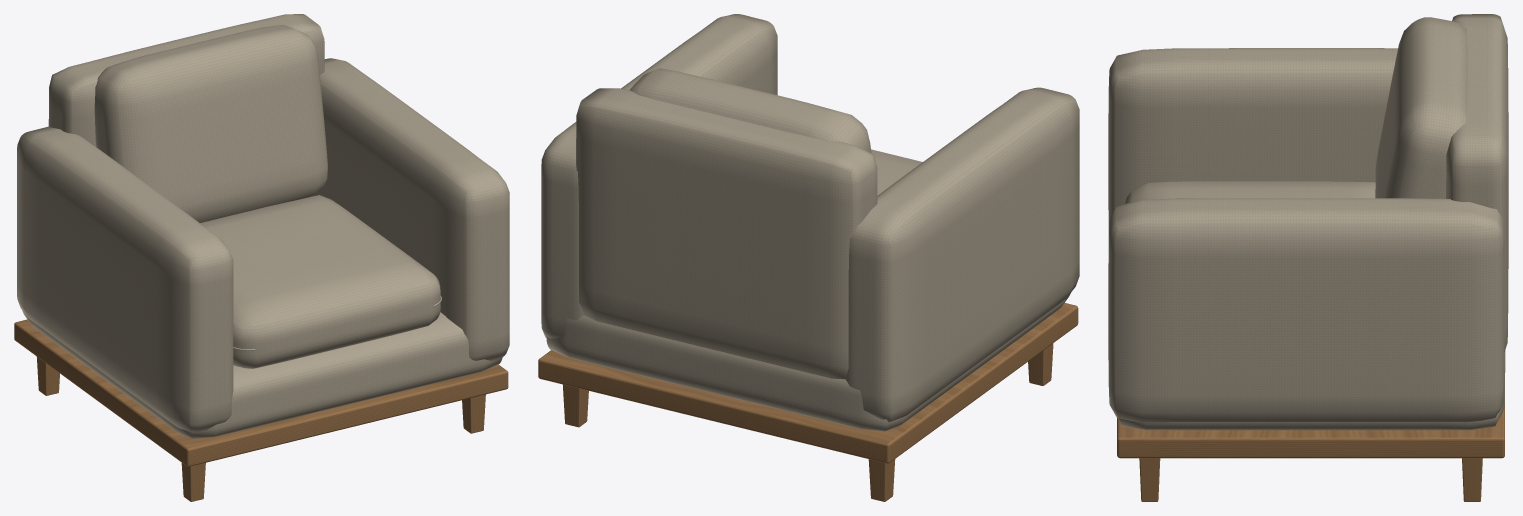
The model's file is poltrona.glb.
The picture shows the model from 3 angles, left to right: view 1: azimuth 30°, elevation 25°; view 2: azimuth 150°, elevation 25°; view 3: azimuth 270°, elevation 25°; orthographic projection. The views are drawn at different scales.
Parts seen in each view (by area): view 1: poltrona; view 2: poltrona; view 3: poltrona.
Boxes of the visible parts, left/top/right/bottom form: poltrona: left=14, top=14, right=509, bottom=501; poltrona: left=538, top=14, right=1079, bottom=501; poltrona: left=1108, top=14, right=1508, bottom=501.
Bounding box in the file's own units: 0.9172 × 0.8519 × 0.856.
Materials: 3 (2 with a texture image).
